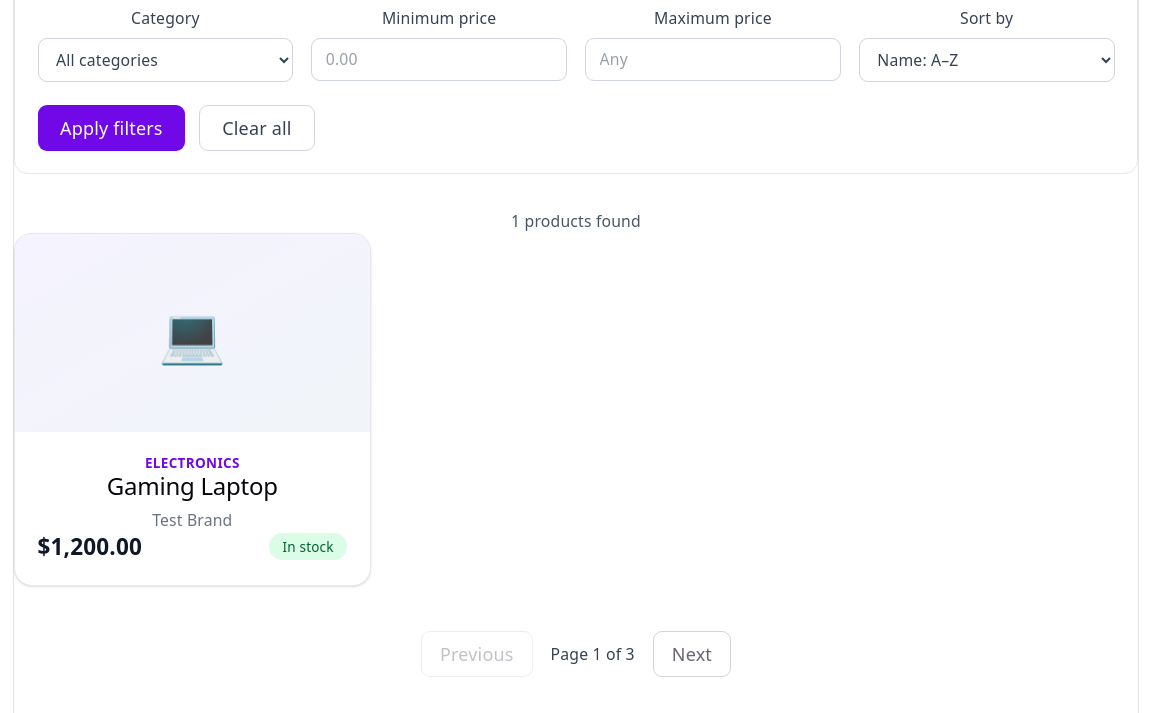
ProductCatalogPage › requests the next page
The image size is (1152, 713).
(page scrolled)
Expected: the text "Page 1 of 3" is shown, [551, 643, 635, 665]
What coordinates should you click on to do the following:
click the button "Next"
I would click on:
 (692, 654)
Its box is [653, 631, 731, 677].
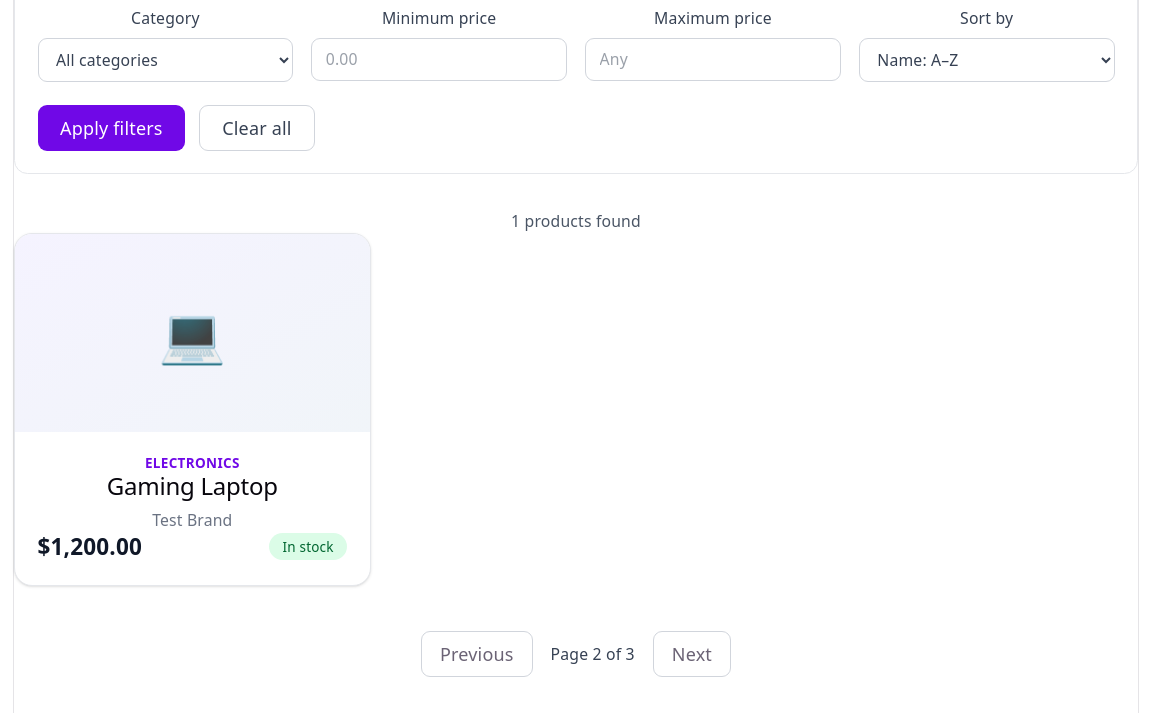
Result: the text "Page 2 of 3" is shown at [551, 643, 635, 665]
